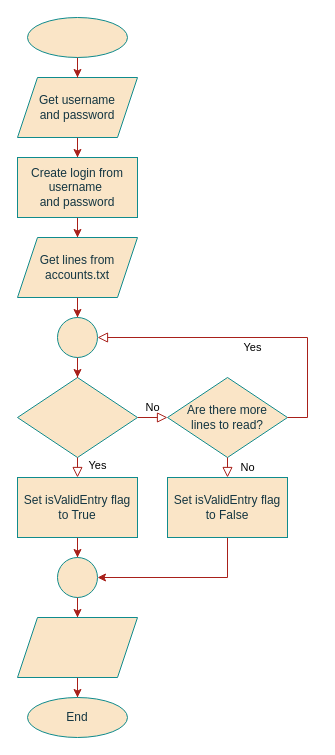
This 335x755 diagram has some shape labels left out. Here are the shapes that lost their labels. From the top down, the centre of each, then its label:
At point (77, 37): "Start".
At point (77, 417): "Is login == read line".
At point (77, 647): "Print isValidEntry".
